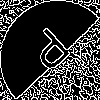P: (25, 25, 80, 81)
